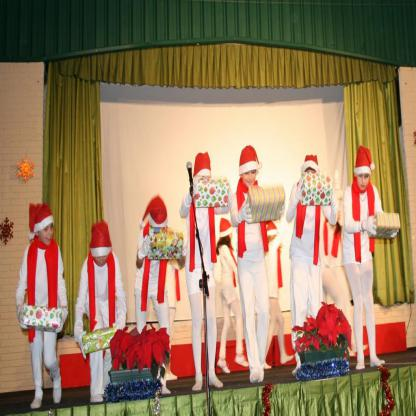face: (40, 223, 54, 246), (243, 170, 257, 190), (358, 173, 371, 192), (306, 164, 318, 184), (200, 174, 212, 193), (96, 254, 109, 268), (270, 233, 277, 243), (228, 230, 233, 242), (337, 212, 341, 222)
